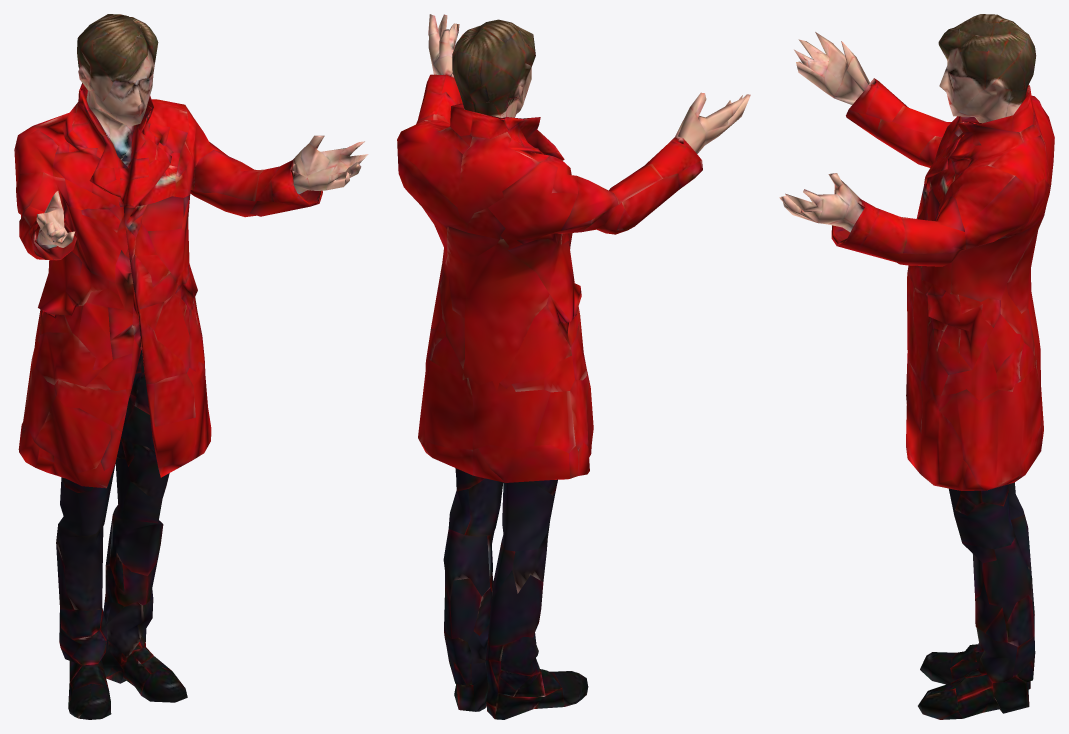
File: pax-rushed.glb
The picture shows the model from 3 angles, left to right: view 1: azimuth 30°, elevation 25°; view 2: azimuth 150°, elevation 25°; view 3: azimuth 270°, elevation 25°; orthographic projection.
Size of the model in its own units: 0.9534 by 1.9 by 0.6977.
1 material, 1 textured.
